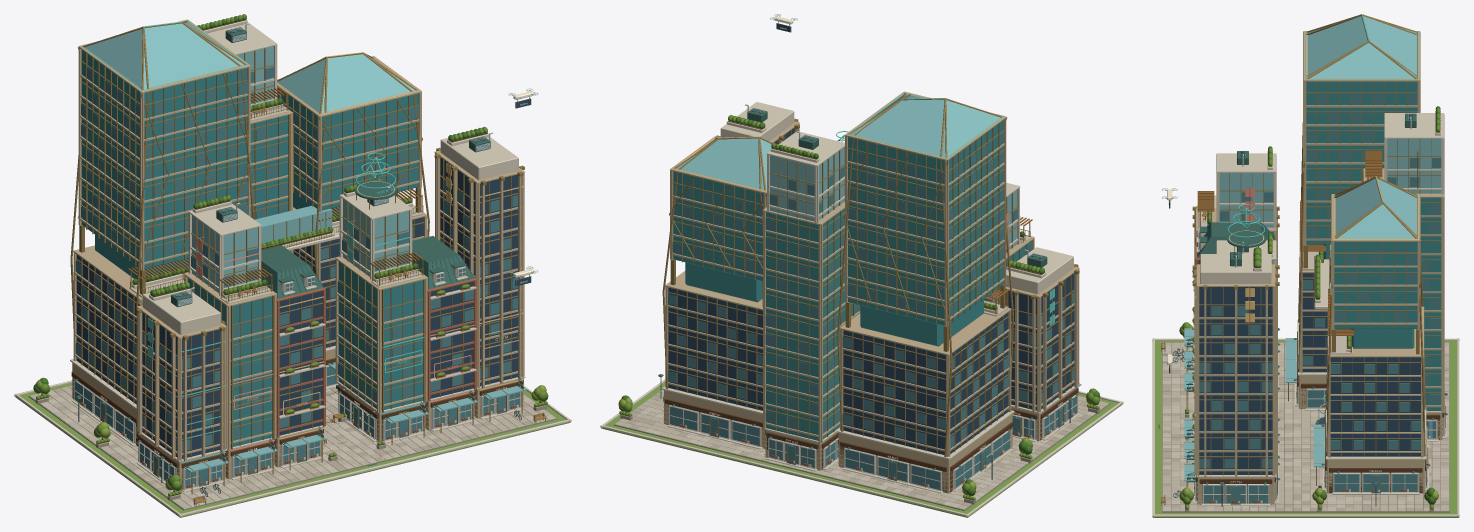
Rendered from level-9.glb.
The picture shows the model from 3 angles, left to right: view 1: azimuth 30°, elevation 25°; view 2: azimuth 150°, elevation 25°; view 3: azimuth 270°, elevation 25°; orthographic projection. The views are drawn at different scales.
Parts seen in each view (by area): view 1: finance_level_9_geometry, metropolitan_sign_lighting_metro_jade, metropolitan_sign_lighting_metro_coral, metropolitan_sign_lighting_metro_gold; view 2: finance_level_9_geometry; view 3: finance_level_9_geometry.
Boxes of the visible parts, left/top/right/bottom form: finance_level_9_geometry: left=14, top=14, right=571, bottom=517; metropolitan_sign_lighting_metro_jade: left=147, top=221, right=425, bottom=463; metropolitan_sign_lighting_metro_coral: left=196, top=237, right=474, bottom=451; metropolitan_sign_lighting_metro_gold: left=279, top=163, right=523, bottom=439; finance_level_9_geometry: left=600, top=91, right=1123, bottom=517; finance_level_9_geometry: left=1152, top=14, right=1459, bottom=517.
Bounding box in the file's own units: 60 × 57.16 × 44.
